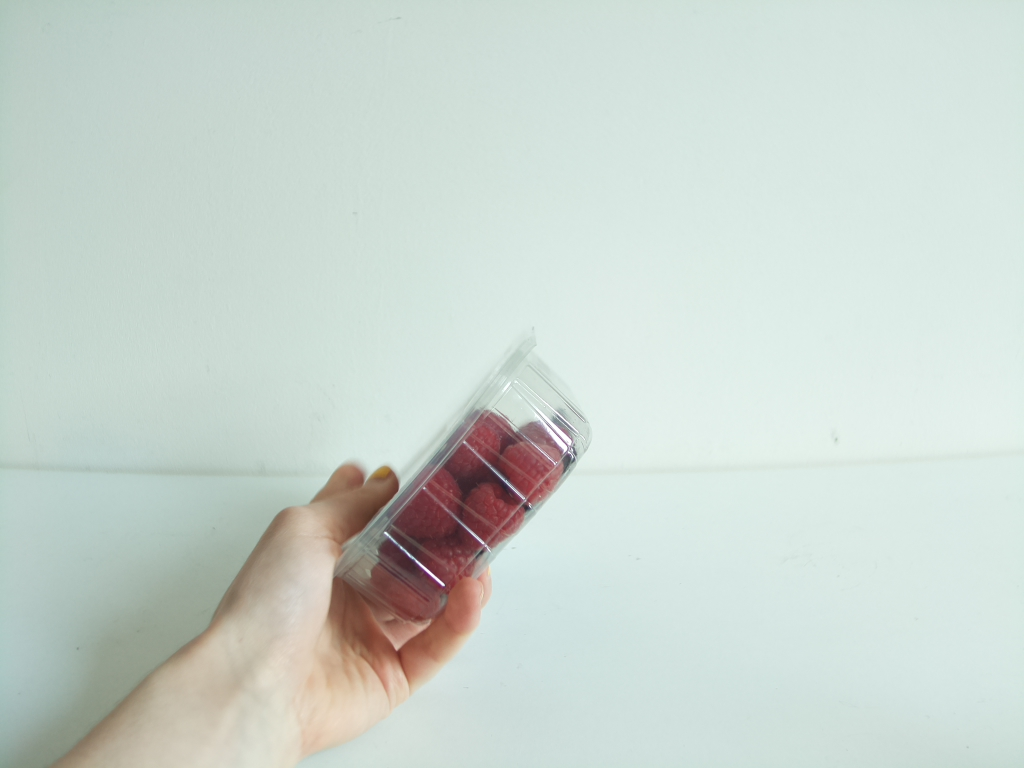soft-fruit: (324, 328, 594, 626)
